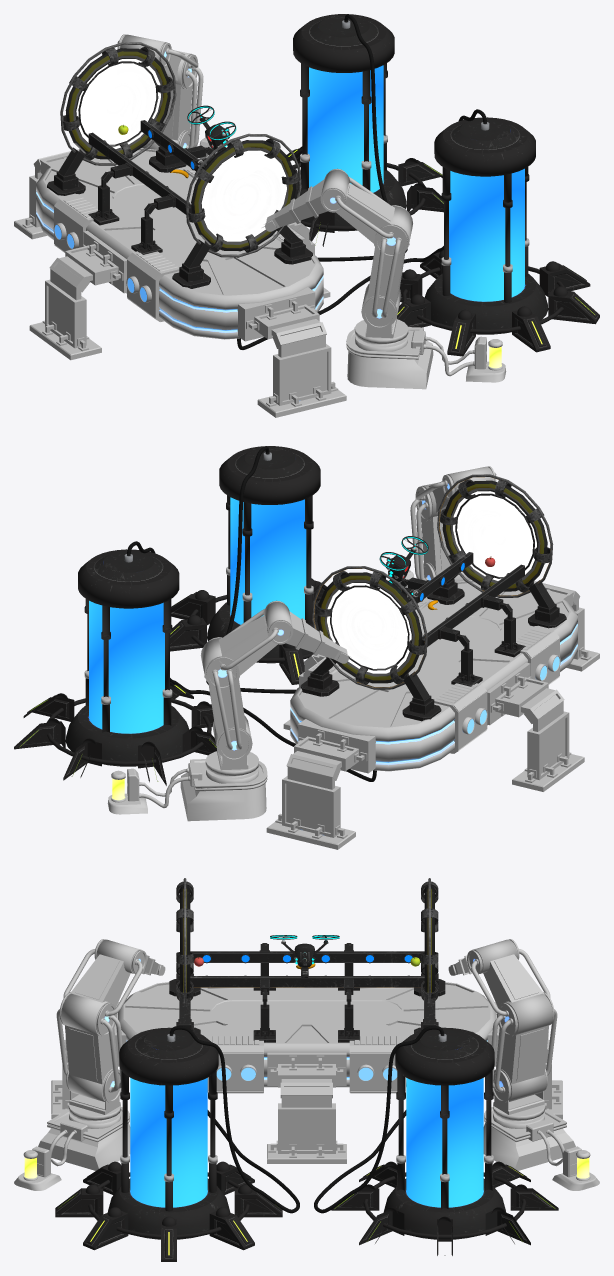
3 renders of one model, top to bottom at view 1: azimuth 30°, elevation 25°; view 2: azimuth 150°, elevation 25°; view 3: azimuth 270°, elevation 25°, orthographic. The views are drawn at different scales.
Parts seen in each view (by area): view 1: Battery, Platform, Portal, Arm, Arm_Base, Arm.001, Flying_Robot; view 2: Battery, Platform, Portal, Arm.001, Arm_Base.001, Arm, Flying_Robot; view 3: Battery, Platform, Portal, Arm, Arm.001, Arm_Base, Arm_Base.001, Flying_Robot.
Boxes of the visible parts, bbox=[...] form: Battery: bbox=[237, 14, 599, 356]; Platform: bbox=[14, 148, 346, 417]; Portal: bbox=[47, 42, 312, 288]; Arm: bbox=[262, 168, 412, 351]; Arm_Base: bbox=[346, 327, 506, 389]; Arm.001: bbox=[117, 34, 203, 149]; Flying_Robot: bbox=[187, 105, 236, 166]; Battery: bbox=[14, 446, 376, 785]; Platform: bbox=[266, 580, 599, 849]; Portal: bbox=[300, 474, 566, 721]; Arm.001: bbox=[200, 600, 351, 783]; Arm_Base.001: bbox=[107, 759, 267, 821]; Arm: bbox=[410, 466, 496, 581]; Flying_Robot: bbox=[379, 536, 428, 597]; Battery: bbox=[55, 1026, 558, 1261]; Platform: bbox=[51, 982, 562, 1163]; Portal: bbox=[169, 878, 445, 1042]; Arm: bbox=[56, 939, 165, 1128]; Arm.001: bbox=[448, 939, 557, 1128]; Arm_Base: bbox=[14, 1107, 130, 1190]; Arm_Base.001: bbox=[483, 1107, 599, 1190]; Flying_Robot: bbox=[270, 935, 339, 977].
Size of the model in its own units: 1.83 by 0.8403 by 2.04.
